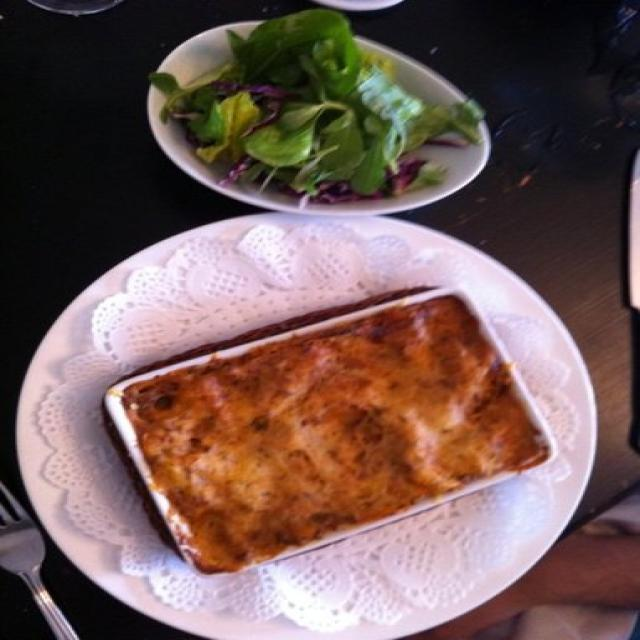Lasagna: (89, 289, 585, 577)
